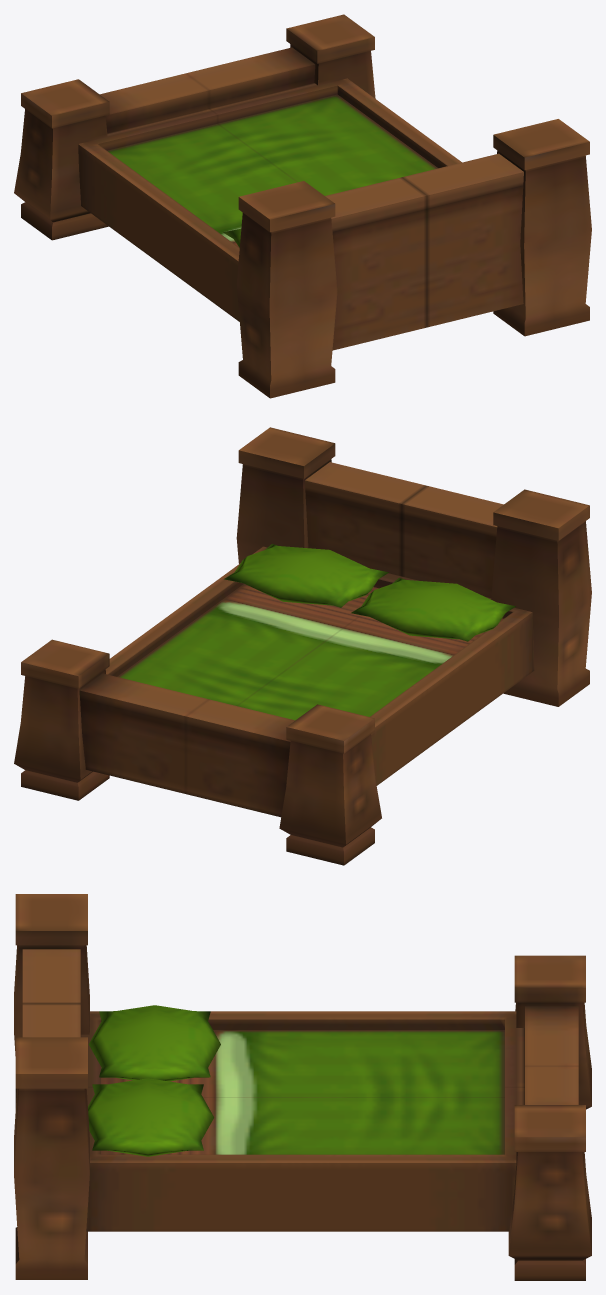
Rendered from Bed03.gltf.
The picture shows the model from 3 angles, top to bottom: view 1: azimuth 30°, elevation 25°; view 2: azimuth 150°, elevation 25°; view 3: azimuth 270°, elevation 25°; orthographic projection. The views are drawn at different scales.
Visible parts, largest first — view 1: Bed03; view 2: Bed03; view 3: Bed03.
Part boxes in pixels (x1,y1,x2,y2): Bed03: (14,14,591,398); Bed03: (14,427,591,865); Bed03: (14,894,591,1280).
Bounding box in the file's own units: 69.52 × 35.77 × 90.95.
1 material, 1 textured.
